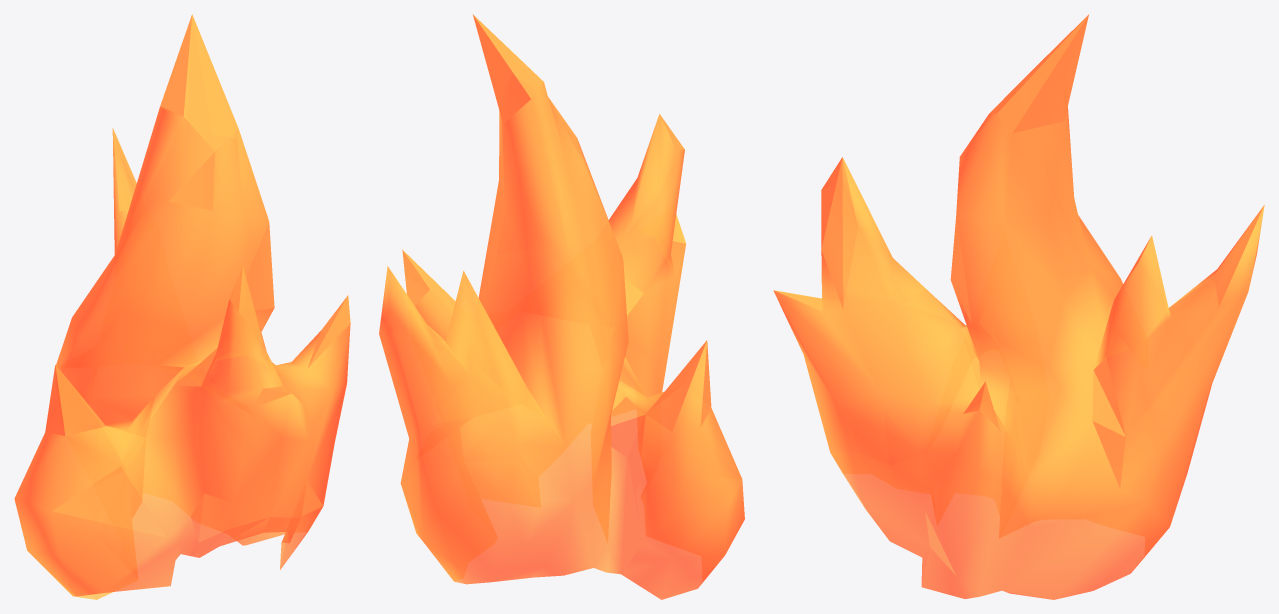
File: fire.glb
3 views of the same model, side by side, from view 1: azimuth 30°, elevation 25°; view 2: azimuth 150°, elevation 25°; view 3: azimuth 270°, elevation 25° (orthographic). The views are drawn at different scales.
Visible parts, largest first — view 1: Campfire_0; view 2: Campfire_0; view 3: Campfire_0.
Part boxes in pixels (x1,y1,x2,y2): Campfire_0: (14, 14, 350, 599); Campfire_0: (379, 14, 744, 599); Campfire_0: (773, 14, 1264, 599).
Bounding box in the file's own units: 0.3083 × 0.4943 × 0.3735.
